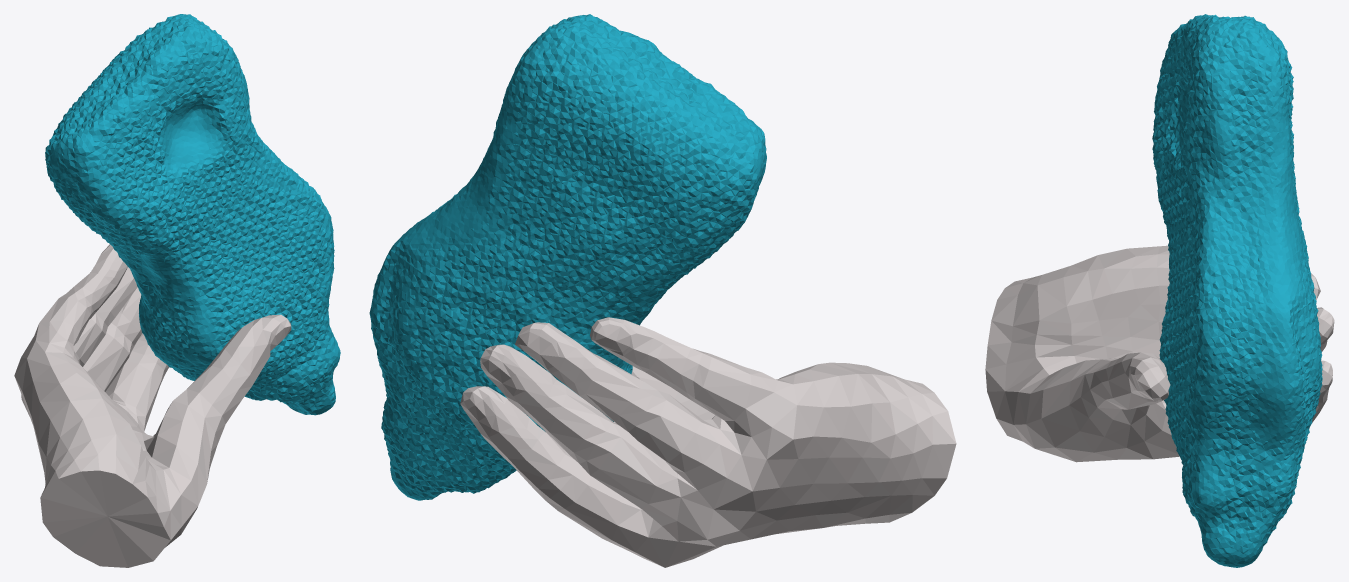
3 views of the same model, side by side, from view 1: azimuth 30°, elevation 25°; view 2: azimuth 150°, elevation 25°; view 3: azimuth 270°, elevation 25° (orthographic). The views are drawn at different scales.
Parts seen in each view (by area): view 1: world; view 2: world; view 3: world.
Part boxes in pixels (x1,y1,x2,y2): world: (14, 14, 340, 567); world: (369, 14, 956, 567); world: (985, 14, 1334, 567).
Bounding box in the file's own units: 0.1813 × 0.2035 × 0.13.
